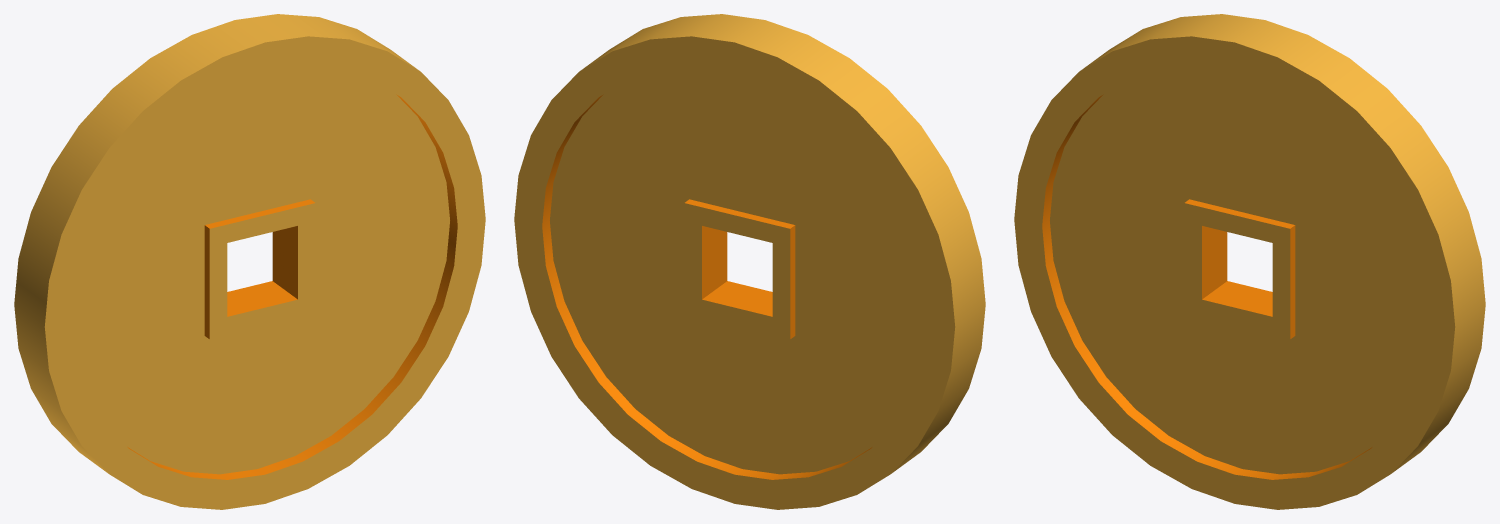
File: muenze.FBX
3 views of the same model, side by side, from view 1: azimuth 30°, elevation 25°; view 2: azimuth 150°, elevation 25°; view 3: azimuth 330°, elevation 25° (orthographic).
Parts seen in each view (by area): view 1: muenze; view 2: muenze; view 3: muenze.
Part boxes in pixels (<box>): muenze: <box>14,14,485,509</box>; muenze: <box>514,14,985,509</box>; muenze: <box>1014,14,1485,509</box>.
Bounding box in the file's own units: 0.5 × 0.5 × 0.06.
